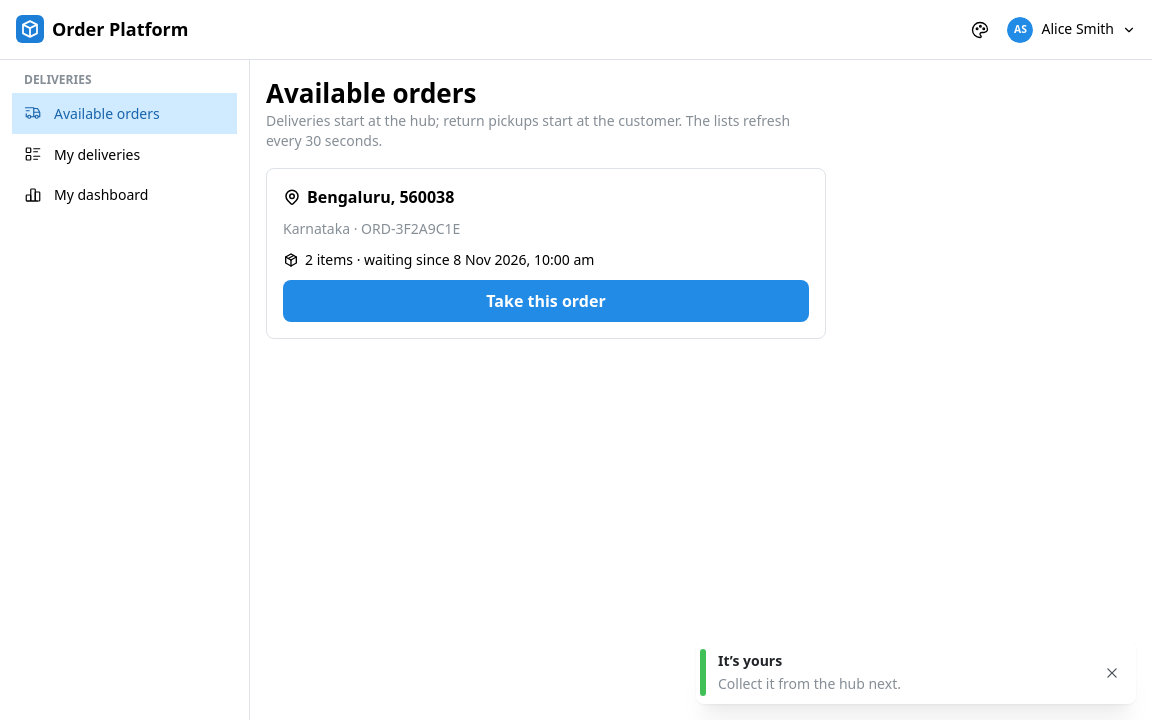
Test: available orders › says so when another driver took it first
This screenshot has width=1152, height=720.
What coordinates should you click on to do the following:
click the button "Take this order"
I would click on:
 (546, 301)
Its box is [283,280,809,322].
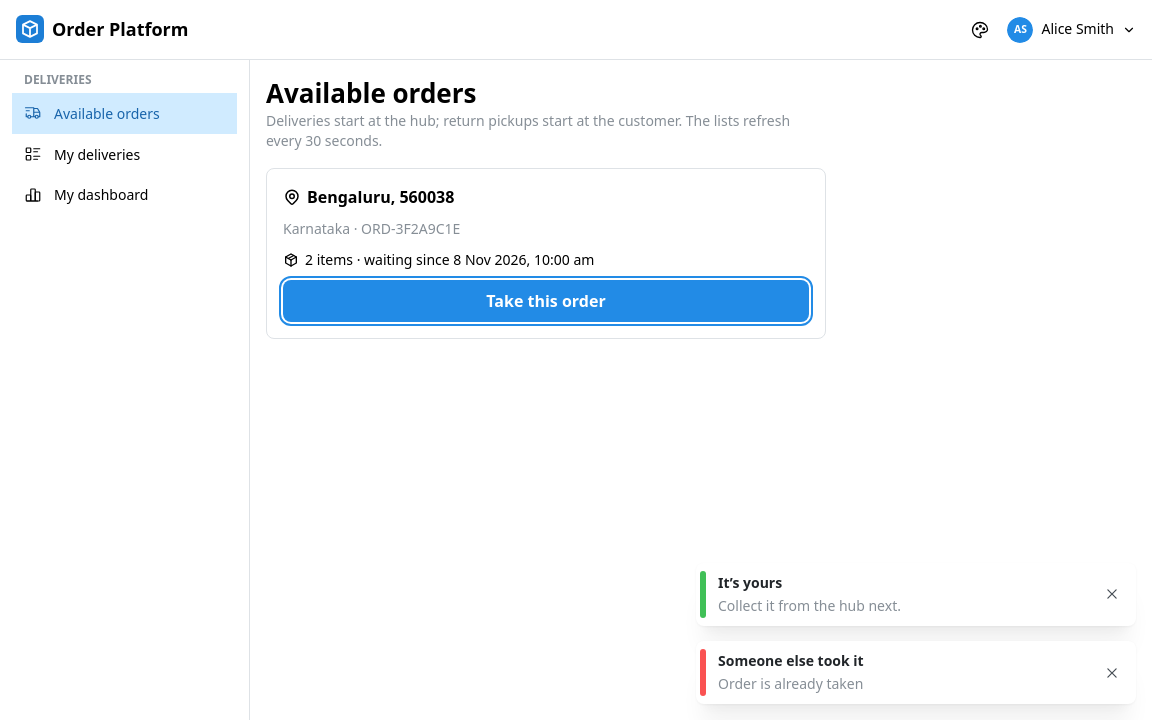
Now the text "Someone else took it" is shown, box [718,651,864,670]
